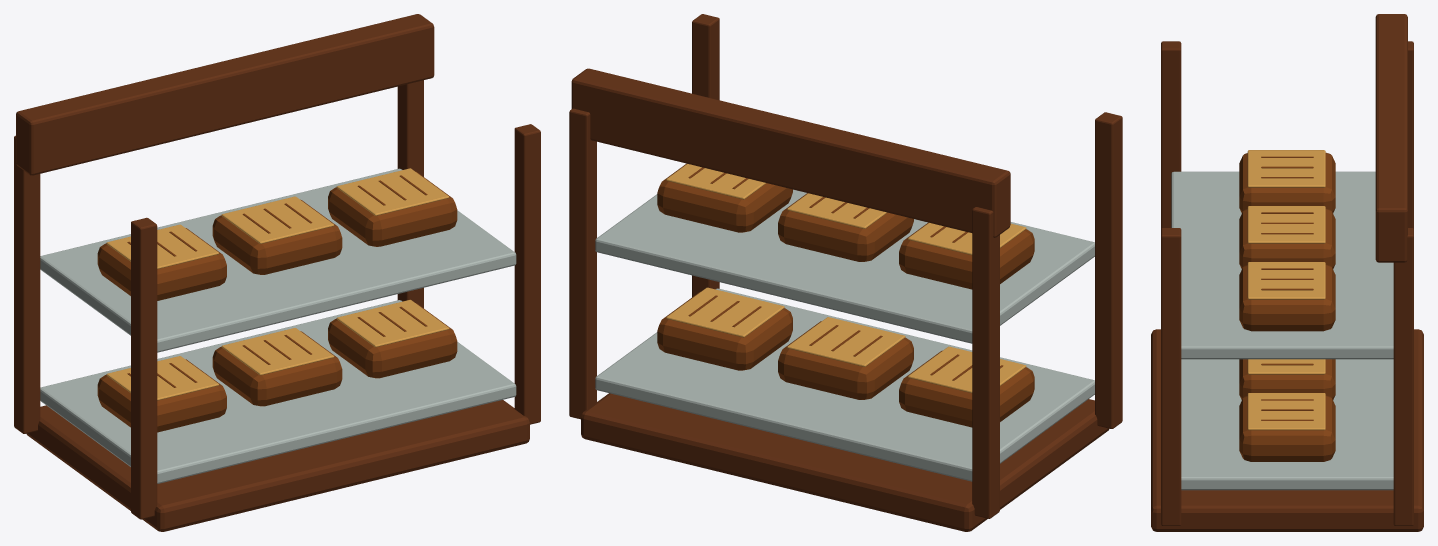
The model's file is kopitiam-toast-display-reopened-edit.glb.
3 views of the same model, side by side, from view 1: azimuth 30°, elevation 25°; view 2: azimuth 150°, elevation 25°; view 3: azimuth 270°, elevation 25° (orthographic). The views are drawn at different scales.
Visible parts, largest first — view 1: DISPLAY_Header, SHELF_Tray, SHELF_Tray.001, DISPLAY_Base, FRAME_Post, FRAME_Post.002, FRAME_Post.001, TOAST_Crust.001, TOAST_Crust.004, TOAST_Crust.002, TOAST_Crust.005, TOAST_Crust.003 (+8 smaller); view 2: DISPLAY_Header, SHELF_Tray, SHELF_Tray.001, DISPLAY_Base, FRAME_Post, FRAME_Post.001, FRAME_Post.003, TOAST_Crust.002, TOAST_Crust.001, TOAST_Crust.005, TOAST_Crust.004, TOAST_Crust (+8 smaller); view 3: SHELF_Tray.001, SHELF_Tray, DISPLAY_Base, DISPLAY_Header, FRAME_Post.002, FRAME_Post.003, TOAST_Crust.005, TOAST_Crust.002, FRAME_Post, TOAST_Crumb.002, TOAST_Crumb.003, TOAST_Crumb.004 (+6 smaller).
Part boxes in pixels (bbox=[...]): DISPLAY_Header: bbox=[16, 14, 434, 175]; SHELF_Tray: bbox=[40, 300, 516, 483]; SHELF_Tray.001: bbox=[40, 168, 516, 352]; DISPLAY_Base: bbox=[26, 400, 529, 531]; FRAME_Post: bbox=[131, 217, 157, 519]; FRAME_Post.002: bbox=[514, 124, 540, 424]; FRAME_Post.001: bbox=[14, 135, 40, 433]; TOAST_Crust.001: bbox=[212, 331, 342, 406]; TOAST_Crust.004: bbox=[212, 199, 342, 274]; TOAST_Crust.002: bbox=[328, 303, 457, 378]; TOAST_Crust.005: bbox=[328, 171, 457, 246]; TOAST_Crust.003: bbox=[97, 228, 226, 300]; DISPLAY_Header: bbox=[571, 68, 1010, 237]; SHELF_Tray: bbox=[595, 288, 1094, 481]; SHELF_Tray.001: bbox=[595, 189, 1094, 343]; DISPLAY_Base: bbox=[581, 393, 1109, 531]; FRAME_Post: bbox=[1095, 112, 1122, 428]; FRAME_Post.001: bbox=[972, 207, 999, 518]; FRAME_Post.003: bbox=[569, 108, 596, 419]; TOAST_Crust.002: bbox=[657, 291, 792, 370]; TOAST_Crust.001: bbox=[778, 321, 913, 399]; TOAST_Crust.005: bbox=[657, 163, 792, 232]; TOAST_Crust.004: bbox=[778, 193, 913, 261]; TOAST_Crust: bbox=[899, 350, 1034, 427]; SHELF_Tray.001: bbox=[1171, 171, 1393, 359]; SHELF_Tray: bbox=[1181, 359, 1393, 490]; DISPLAY_Base: bbox=[1151, 329, 1423, 531]; DISPLAY_Header: bbox=[1375, 14, 1407, 262]; FRAME_Post.002: bbox=[1161, 228, 1181, 525]; FRAME_Post.003: bbox=[1393, 228, 1413, 525]; TOAST_Crust.005: bbox=[1239, 264, 1335, 331]; TOAST_Crust.002: bbox=[1239, 395, 1335, 461]; FRAME_Post: bbox=[1161, 41, 1181, 228]; TOAST_Crumb.002: bbox=[1247, 393, 1325, 430]; TOAST_Crumb.003: bbox=[1247, 150, 1325, 187]; TOAST_Crumb.004: bbox=[1247, 206, 1325, 243].
Size of the model in its own units: 0.58 by 0.4575 by 0.34.
